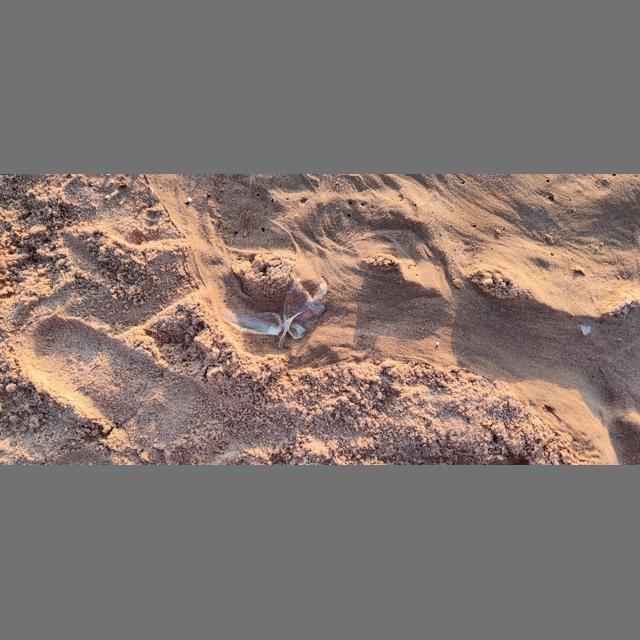litter: (284, 277, 327, 339), (220, 307, 284, 336)
